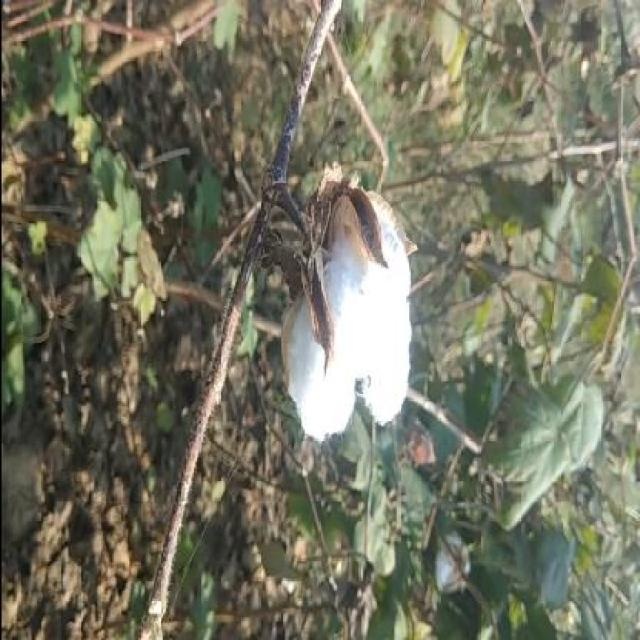cotton_ready: (246, 151, 443, 418)
